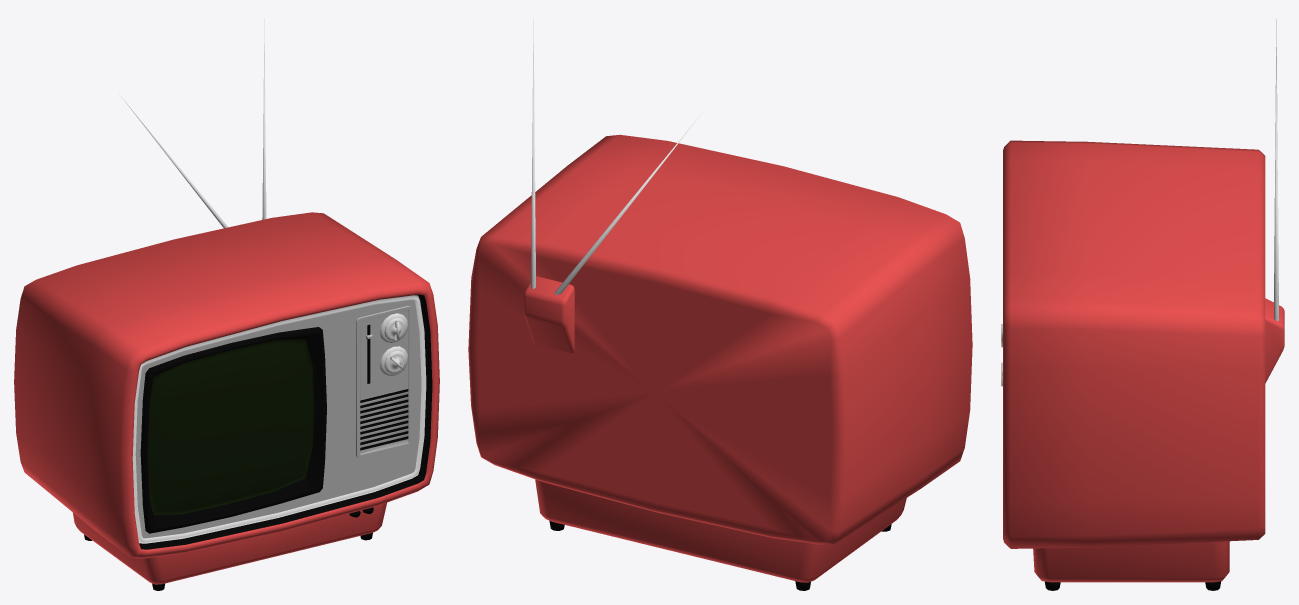
3 renders of one model, left to right at view 1: azimuth 30°, elevation 25°; view 2: azimuth 150°, elevation 25°; view 3: azimuth 270°, elevation 25°, orthographic. The views are drawn at different scales.
Parts seen in each view (by area): view 1: Retro_TV; view 2: Retro_TV; view 3: Retro_TV.
Part boxes in pixels (box(x1,y1,x2,y2)): Retro_TV: box(14, 18, 439, 590); Retro_TV: box(468, 19, 972, 590); Retro_TV: box(1001, 19, 1284, 590).
Size of the model in its own units: 110 by 150 by 71.95.
